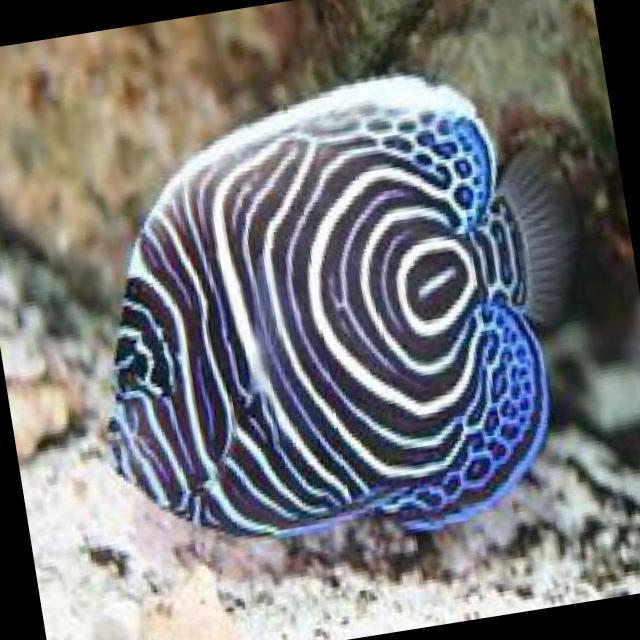AngelFish: (58, 49, 621, 576)
